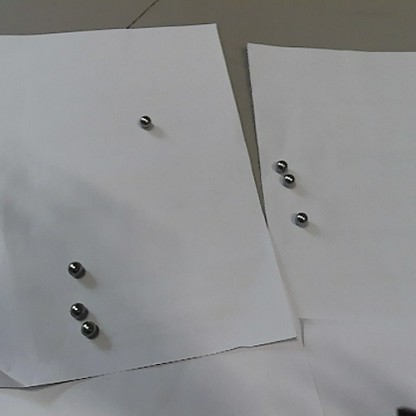ironball: (79, 320, 96, 335), (70, 301, 84, 318), (66, 260, 81, 275), (283, 173, 294, 185), (295, 212, 306, 224), (275, 159, 286, 170), (139, 116, 150, 125)
